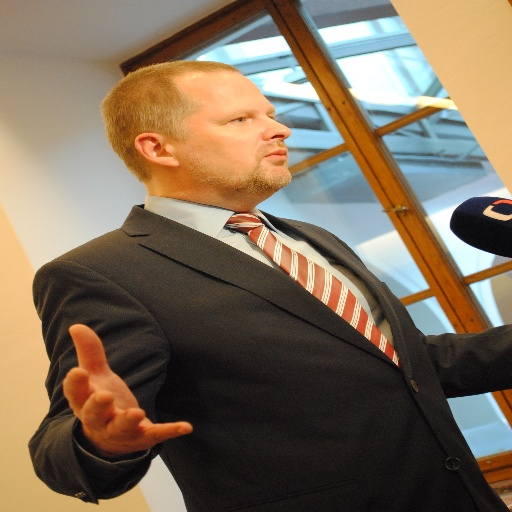hand: (44, 339, 185, 482)
